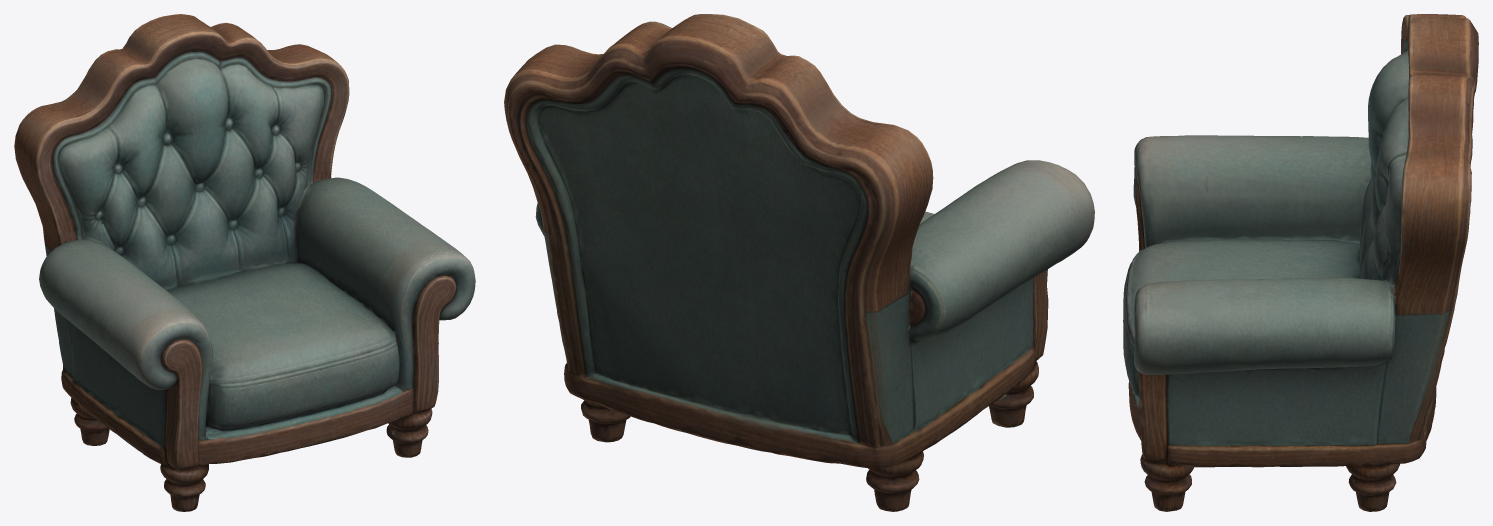
The model's file is Furn_ParlorArmchair.fbx.
3 views of the same model, side by side, from view 1: azimuth 30°, elevation 25°; view 2: azimuth 150°, elevation 25°; view 3: azimuth 270°, elevation 25° (orthographic). The views are drawn at different scales.
Parts seen in each view (by area): view 1: texture_mapping; view 2: texture_mapping; view 3: texture_mapping.
Boxes of the visible parts, x1=… form: texture_mapping: x1=14, y1=14, x2=475, y2=511; texture_mapping: x1=504, y1=14, x2=1094, y2=511; texture_mapping: x1=1123, y1=14, x2=1478, y2=511.
Bounding box in the file's own units: 0.9649 × 0.7712 × 1.
Materials: 1 (1 with a texture image).
